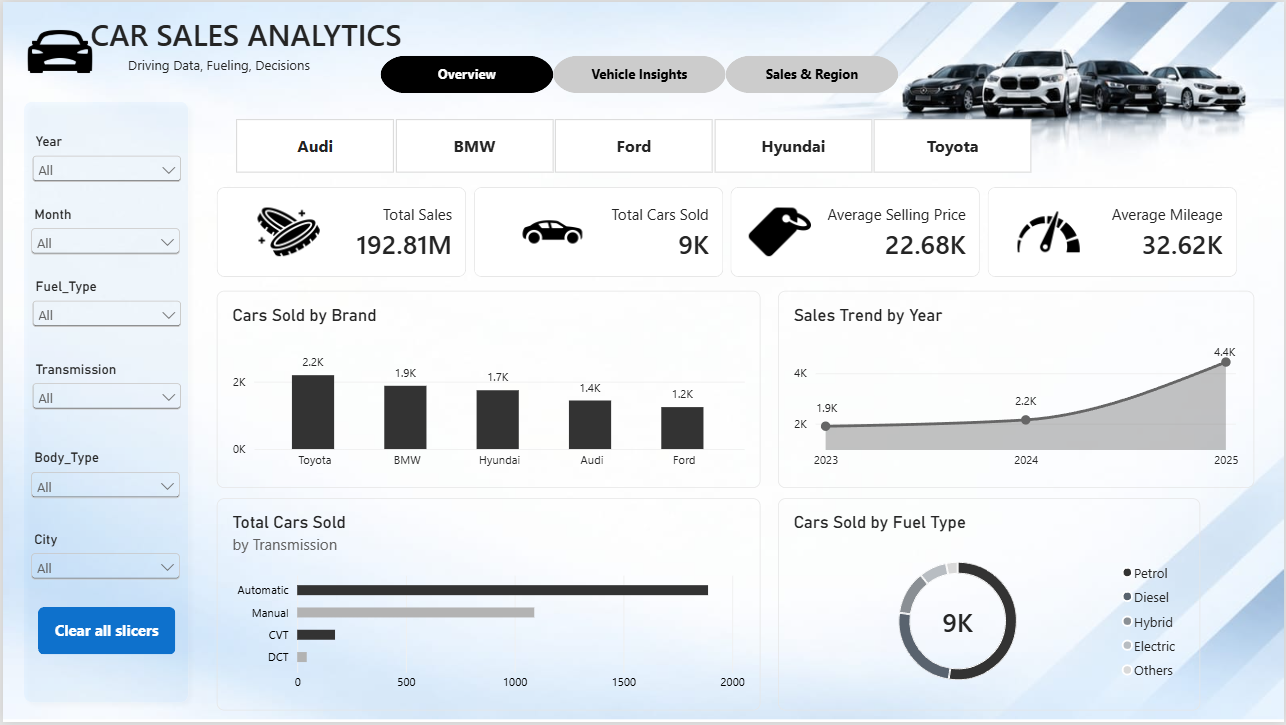

What the dashboard file says about the page in this screenshot:
{"tool":"powerbi","page":{"name":"Overview","canvas":[1366,768],"ordinal":0},"visuals":[{"type":"slicer","fields":{"Values":["Car Sales Data.Brand"]},"box":[228,122.7,888,61.3],"z":0},{"type":"shape","box":[13.3,97.3,193.3,658.7],"z":2000},{"type":"cardVisual","fields":{"Data":["Measure.Total Sales","Measure.Total Cars Sold","Measure.Average Selling Price","Measure.Average Mileage"]},"box":[228,197.3,1090.7,96],"z":3000},{"type":"clusteredColumnChart","title":"Cars Sold by Brand ","fields":{"Category":["Car Sales Data.Brand"],"Y":["Measure.Total Cars Sold"]},"box":[228,308,580,210.7],"z":4000},{"type":"areaChart","title":"Sales Trend by Year","fields":{"Category":["Car Sales Data.Year"],"Y":["Measure.Total Cars Sold"]},"box":[826.7,308,508,210.7],"z":5000},{"type":"donutChart","title":"Cars Sold by Fuel Type","fields":{"Category":["Car Sales Data.Fuel_Type"],"Y":["Measure.Total Cars Sold"]},"box":[826.7,529.3,450.7,226.7],"z":6000},{"type":"actionButton","box":[402.7,57.3,184.4,39.9],"z":9008},{"type":"actionButton","box":[586.7,57.3,184.4,39.9],"z":9009},{"type":"actionButton","box":[770.7,57.3,184.4,39.9],"z":9010},{"type":"slicer","fields":{"Values":["Car Sales Data.Year"]},"box":[26.7,140,168,64],"z":9011},{"type":"slicer","fields":{"Values":["Car Sales Data.Month"]},"box":[25.3,217.3,168,64],"z":9012},{"type":"slicer","fields":{"Values":["Car Sales Data.Fuel_Type"]},"box":[26.7,294.7,168,64],"z":9013},{"type":"slicer","fields":{"Values":["Car Sales Data.Transmission"]},"box":[26.7,382.7,168,64],"z":9014},{"type":"slicer","fields":{"Values":["Car Sales Data.Body_Type"]},"box":[25.3,477.3,168,64],"z":9015},{"type":"slicer","fields":{"Values":["Car Sales Data.City"]},"box":[25.3,564,168,64],"z":9016},{"type":"actionButton","box":[37.3,645.3,146.7,50.7],"z":9017},{"type":"textbox","box":[93.3,12,401.3,57.3],"z":9018},{"type":"textbox","box":[133.3,57.3,224,29.3],"z":9019},{"type":"barChart","fields":{"Category":["Car Sales Data.Transmission"],"Y":["Measure.Total Cars Sold"]},"box":[228,529.3,580,226.7],"z":9020},{"type":"image","box":[270.7,212,68,66.7],"z":9021},{"type":"image","box":[552,212,68,66.7],"z":9022},{"type":"image","box":[794.7,212,68,66.7],"z":9023},{"type":"image","box":[1081.3,212,68,66.7],"z":9024},{"type":"image","box":[12,16,97.3,73.3],"z":9025}]}

Visuals, with their boxes in screenshot pixels (x1, y1, x2, y2), scaled from the page's 1366x768 canvas onto the 1286x725 screenshot:
slicer - Car Sales Data.Brand: 215,116,1051,174
shape: 13,92,195,714
cardVisual - Measure.Total Sales x Measure.Total Cars Sold: 215,186,1241,277
"Cars Sold by Brand " clusteredColumnChart: 215,291,761,490
"Sales Trend by Year" areaChart: 778,291,1257,490
"Cars Sold by Fuel Type" donutChart: 778,500,1203,714
actionButton: 379,54,553,92
actionButton: 552,54,726,92
actionButton: 726,54,899,92
slicer - Car Sales Data.Year: 25,132,183,193
slicer - Car Sales Data.Month: 24,205,182,266
slicer - Car Sales Data.Fuel_Type: 25,278,183,339
slicer - Car Sales Data.Transmission: 25,361,183,422
slicer - Car Sales Data.Body_Type: 24,451,182,511
slicer - Car Sales Data.City: 24,532,182,593
actionButton: 35,609,173,657
textbox: 88,11,466,65
textbox: 125,54,336,82
barChart - Car Sales Data.Transmission x Measure.Total Cars Sold: 215,500,761,714
image: 255,200,319,263
image: 520,200,584,263
image: 748,200,812,263
image: 1018,200,1082,263
image: 11,15,103,84
